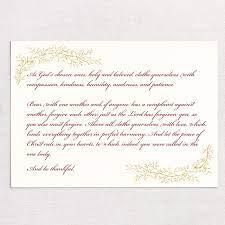text: (25, 109, 200, 123), (24, 118, 208, 131), (25, 128, 206, 141), (26, 68, 198, 81), (26, 138, 201, 150), (26, 99, 197, 111), (26, 80, 176, 91), (26, 162, 76, 176), (26, 149, 52, 161)
